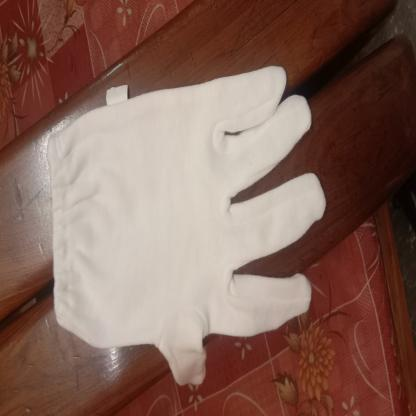gloved_hand: (46, 60, 329, 396)
